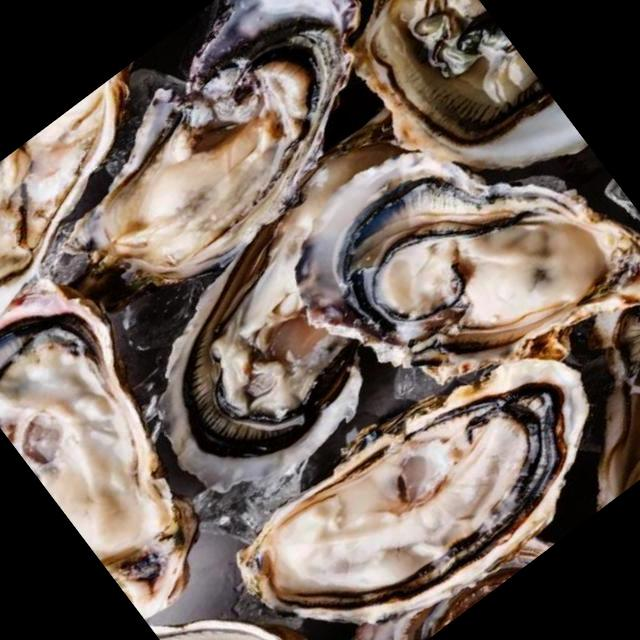Oyster-Open: (166, 107, 422, 491), (234, 364, 589, 622), (72, 0, 361, 288), (299, 154, 639, 364), (0, 279, 196, 616), (355, 0, 586, 169), (0, 72, 128, 308)
